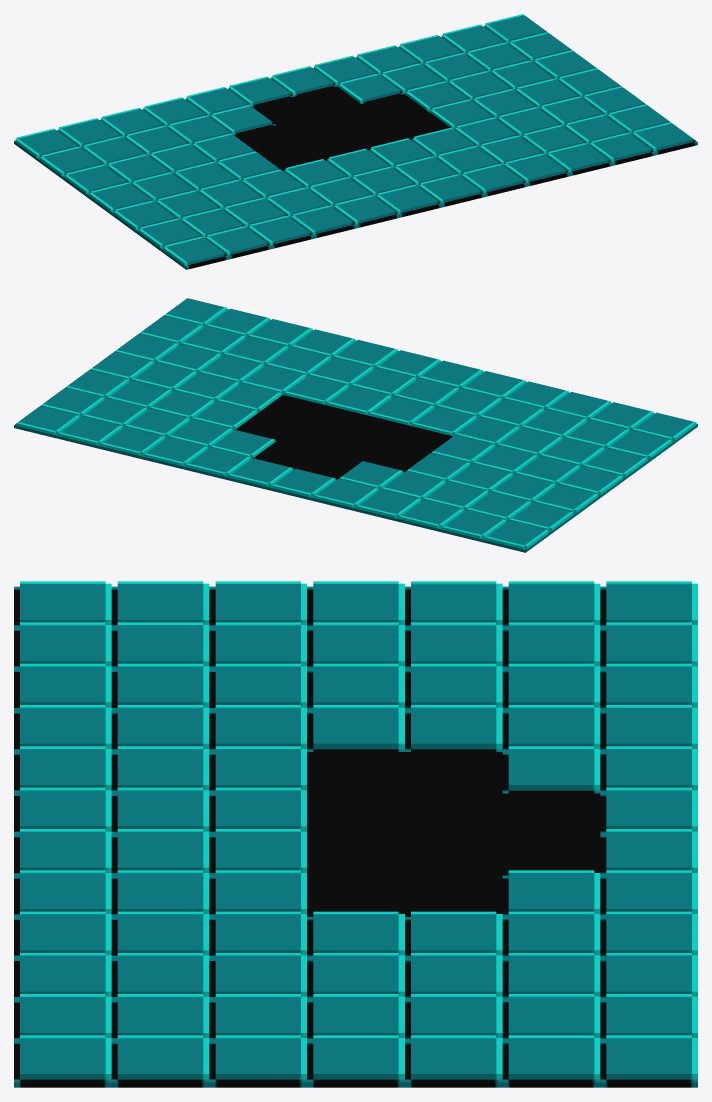
Rendered from FloorZeldaRoom.glb.
3 renders of one model, top to bottom at view 1: azimuth 30°, elevation 25°; view 2: azimuth 150°, elevation 25°; view 3: azimuth 270°, elevation 25°, orthographic. The views are drawn at different scales.
Visible parts, largest first — view 1: FloorZeldaRoom; view 2: FloorZeldaRoom; view 3: FloorZeldaRoom.
Boxes of the visible parts, bbox=[...] form: FloorZeldaRoom: bbox=[14, 14, 697, 269]; FloorZeldaRoom: bbox=[14, 298, 697, 552]; FloorZeldaRoom: bbox=[14, 581, 697, 1087].
Bounding box in the file's own units: 19.2 × 0.2 × 11.2.
1 material, 1 textured.
